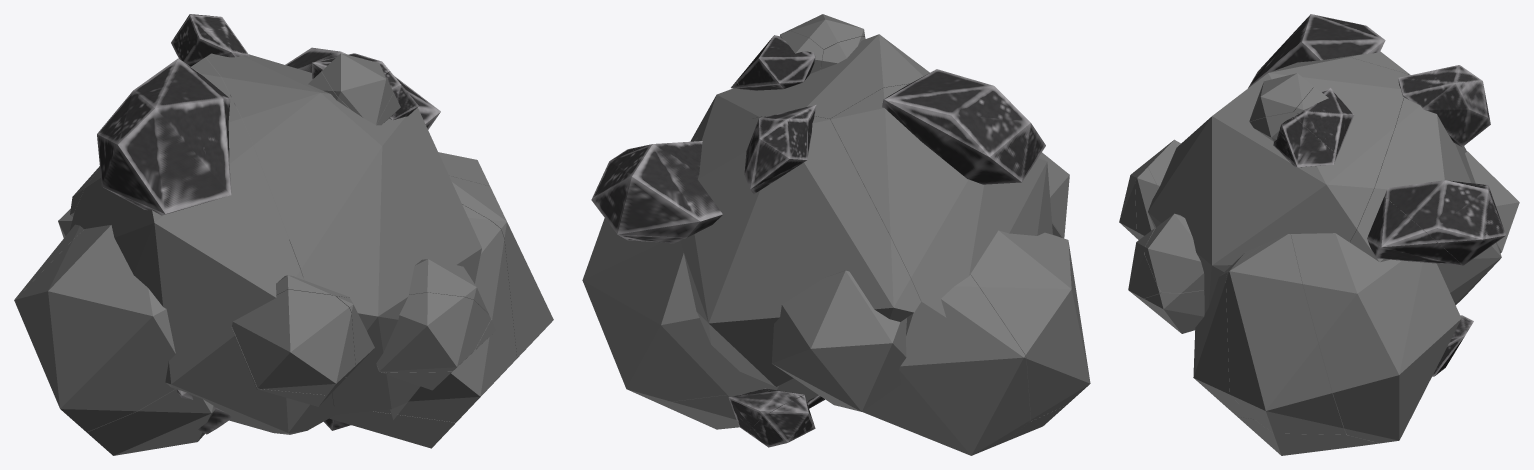
File: LavastoneOre.fbx
The picture shows the model from 3 angles, left to right: view 1: azimuth 30°, elevation 25°; view 2: azimuth 150°, elevation 25°; view 3: azimuth 270°, elevation 25°; orthographic projection. The views are drawn at different scales.
Parts seen in each view (by area): view 1: StoneOre.026_cell.014, StoneOre.026_cell.012, StoneOre.025_cell.019, LavastoneParticle.064_cell.005, StoneOre.029_cell.019, StoneOre.024_cell.025, StoneOre.028_cell.016, StoneOre.025_cell.016, StoneOre.024_cell.024, StoneOre.030_cell.016, LavastoneParticle.064_cell.010, StoneOre.024_cell.026 (+11 smaller); view 2: StoneOre.026_cell.013, StoneOre.026_cell.012, StoneOre.025_cell.018, StoneOre.024_cell.027, StoneOre.025_cell.019, LavastoneParticle.064_cell.005, LavastoneParticle.064_cell.003, StoneOre.026_cell.014, StoneOre.027_cell.018, StoneOre.028, LavastoneParticle.064_cell.010, LavastoneParticle.064_cell.009 (+10 smaller); view 3: StoneOre.026_cell.014, StoneOre.024_cell.027, StoneOre.024_cell.024, StoneOre.026_cell.013, LavastoneParticle.064_cell.003, LavastoneParticle.064_cell.010, LavastoneParticle.064_cell.005, StoneOre.024_cell.025, StoneOre.028_cell.018, LavastoneParticle.064_cell, LavastoneParticle.064_cell.009, StoneOre.024_cell.026 (+12 smaller).
Boxes of the visible parts, <box> form: StoneOre.026_cell.014: <box>206,55,481,414</box>; StoneOre.026_cell.012: <box>69,58,335,434</box>; StoneOre.025_cell.019: <box>15,225,175,432</box>; LavastoneParticle.064_cell.005: <box>97,58,236,215</box>; StoneOre.029_cell.019: <box>232,289,355,395</box>; StoneOre.024_cell.025: <box>289,204,516,422</box>; StoneOre.028_cell.016: <box>376,292,490,372</box>; StoneOre.025_cell.016: <box>87,389,215,455</box>; StoneOre.024_cell.024: <box>449,175,553,384</box>; StoneOre.030_cell.016: <box>321,53,393,124</box>; LavastoneParticle.064_cell.010: <box>171,14,249,66</box>; StoneOre.024_cell.026: <box>329,390,486,448</box>; StoneOre.026_cell.013: <box>680,116,920,386</box>; StoneOre.026_cell.012: <box>830,84,1052,317</box>; StoneOre.025_cell.018: <box>862,274,1030,455</box>; StoneOre.024_cell.027: <box>582,218,747,401</box>; StoneOre.025_cell.019: <box>970,230,1090,421</box>; LavastoneParticle.064_cell.005: <box>882,69,1045,184</box>; LavastoneParticle.064_cell.003: <box>591,141,722,243</box>; StoneOre.026_cell.014: <box>690,34,929,141</box>; StoneOre.027_cell.018: <box>809,345,906,411</box>; StoneOre.028: <box>782,270,906,405</box>; LavastoneParticle.064_cell.010: <box>744,105,816,193</box>; LavastoneParticle.064_cell.009: <box>737,35,815,90</box>; StoneOre.026_cell.014: <box>1148,57,1408,313</box>; StoneOre.024_cell.027: <box>1291,233,1461,443</box>; StoneOre.024_cell.024: <box>1226,234,1346,434</box>; StoneOre.026_cell.013: <box>1350,74,1501,304</box>; LavastoneParticle.064_cell.003: <box>1384,180,1505,265</box>; LavastoneParticle.064_cell.010: <box>1398,65,1490,147</box>; LavastoneParticle.064_cell.005: <box>1248,14,1385,87</box>; StoneOre.024_cell.025: <box>1193,246,1260,418</box>; StoneOre.028_cell.018: <box>1145,213,1204,293</box>; LavastoneParticle.064_cell: <box>1367,196,1462,265</box>; LavastoneParticle.064_cell.009: <box>1294,88,1354,154</box>; StoneOre.024_cell.026: <box>1238,417,1384,455</box>.
Size of the model in its own units: 275 by 229 by 238.
